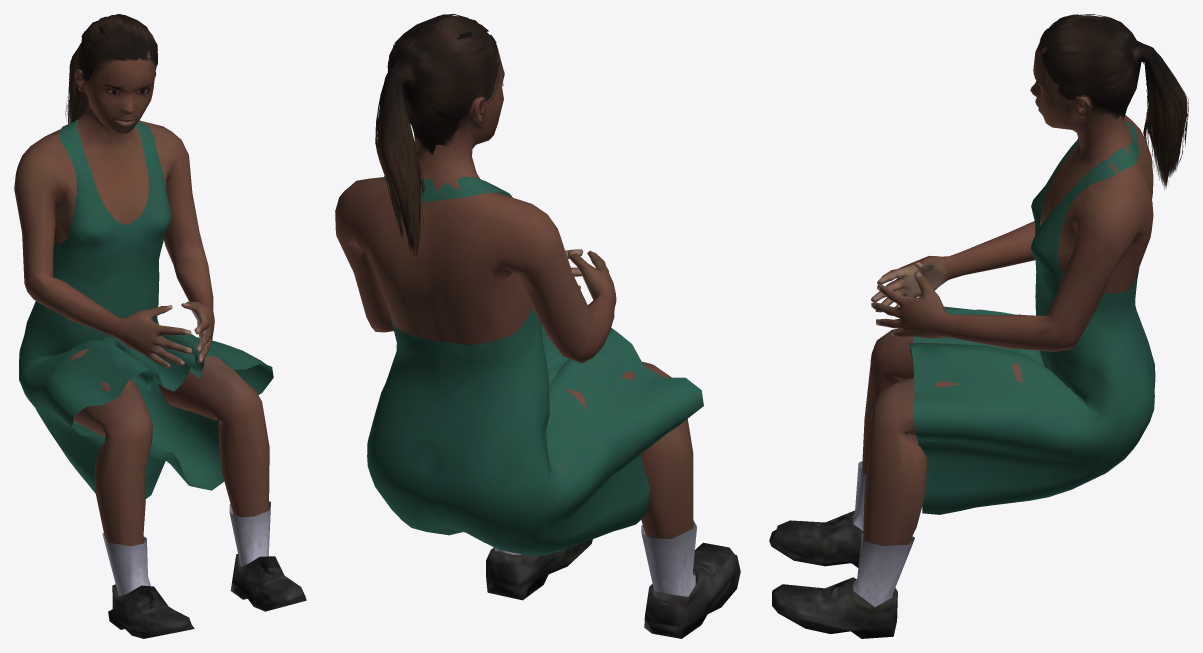
The model's file is mq-bench_woman.glb.
The picture shows the model from 3 angles, left to right: view 1: azimuth 30°, elevation 25°; view 2: azimuth 150°, elevation 25°; view 3: azimuth 270°, elevation 25°; orthographic projection. The views are drawn at different scales.
Visible parts, largest first — view 1: MQ_bench_woman; view 2: MQ_bench_woman; view 3: MQ_bench_woman.
Boxes of the visible parts, <box> form: MQ_bench_woman: <box>14,14,306,638</box>; MQ_bench_woman: <box>335,14,740,638</box>; MQ_bench_woman: <box>769,14,1188,638</box>.
Size of the model in its own units: 0.4289 by 1.05 by 0.6735.
1 material, 1 textured.
